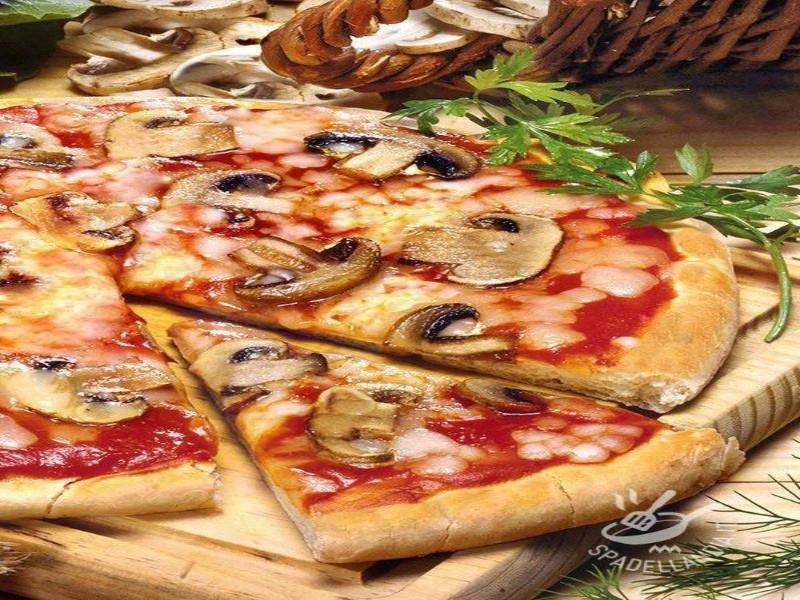champignon: (395, 208, 574, 289), (2, 350, 183, 430), (233, 229, 388, 315), (295, 127, 491, 193), (302, 375, 429, 469), (3, 185, 157, 258), (380, 297, 548, 363), (187, 331, 329, 409), (159, 160, 302, 237), (98, 109, 242, 171)
